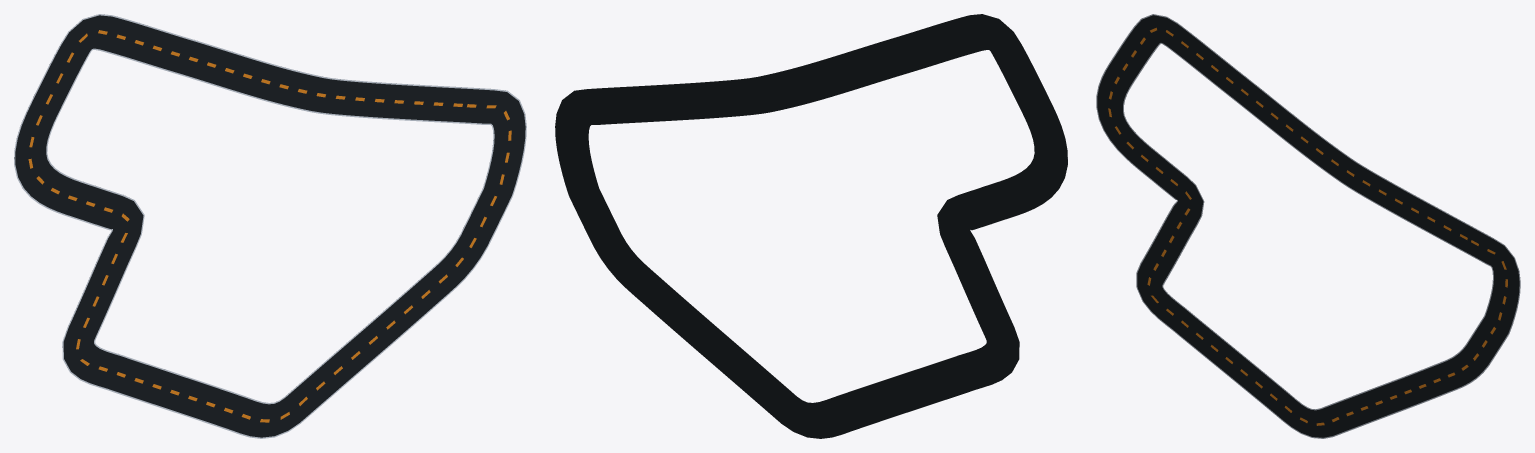
The model's file is track.obj.
3 views of the same model, side by side, from view 1: azimuth 30°, elevation 25°; view 2: azimuth 150°, elevation 25°; view 3: azimuth 330°, elevation 25° (orthographic). The views are drawn at different scales.
Size of the model in its own units: 16.32 by 14.18 by 0.002.
